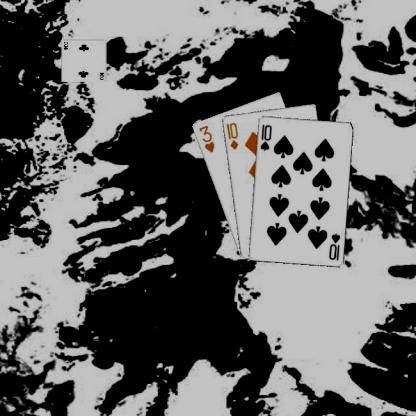10D: (223, 120, 240, 150)
10S: (257, 122, 273, 152), (326, 230, 341, 261)
3H: (196, 122, 216, 154)
